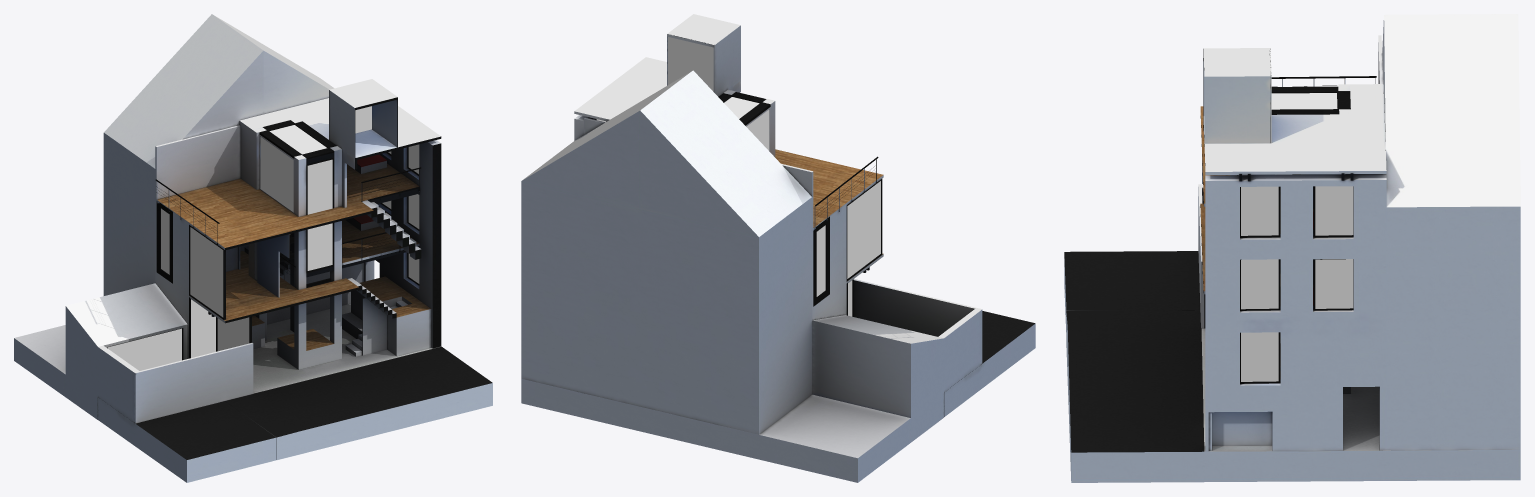
The model's file is Infra.glb.
3 renders of one model, left to right at view 1: azimuth 30°, elevation 25°; view 2: azimuth 150°, elevation 25°; view 3: azimuth 270°, elevation 25°, orthographic. The views are drawn at different scales.
Parts seen in each view (by area): view 1: Object003, Object002, Object001, Object004, vitre; view 2: Object004, Object003, Object002, Object001, vitre; view 3: Object004, Object001, Object002, Object003, vitre.
Boxes of the visible parts, bbox=[...] form: Object003: bbox=[65, 14, 492, 482]; Object002: bbox=[14, 97, 492, 459]; Object001: bbox=[155, 79, 440, 355]; Object004: bbox=[103, 15, 431, 356]; vitre: bbox=[108, 106, 419, 370]; Object004: bbox=[521, 71, 883, 434]; Object003: bbox=[521, 70, 1035, 482]; Object002: bbox=[606, 92, 1035, 482]; Object001: bbox=[574, 14, 883, 309]; vitre: bbox=[596, 37, 880, 316]; Object004: bbox=[1202, 14, 1520, 450]; Object001: bbox=[1203, 48, 1386, 451]; Object002: bbox=[1064, 49, 1382, 452]; Object003: bbox=[1064, 20, 1520, 482]; vitre: bbox=[1241, 93, 1353, 381].
Bounding box in the file's own units: 14.35 × 13.01 × 13.61.
5 materials, 4 textured.
